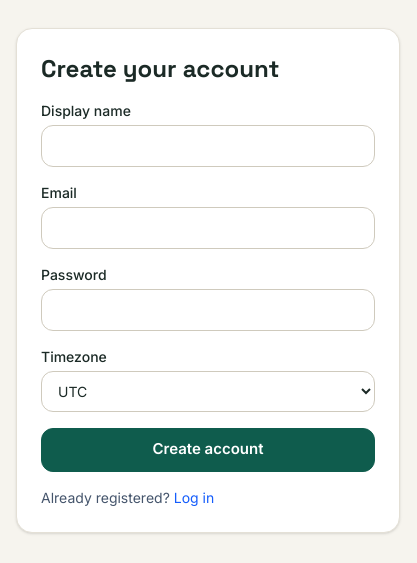
Scenario: authentication screens › shows field errors from the backend under the right input
Type "alex@example.com" into the field labelled "Email" at (208, 228), box [41,206,375,248]
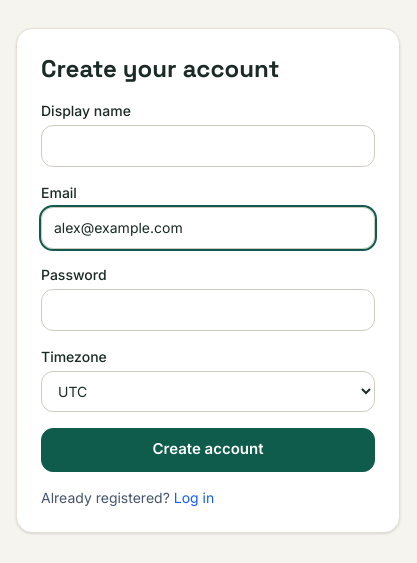
Type "password" into the password field labelled "Password" at (208, 310), box [41,288,375,330]
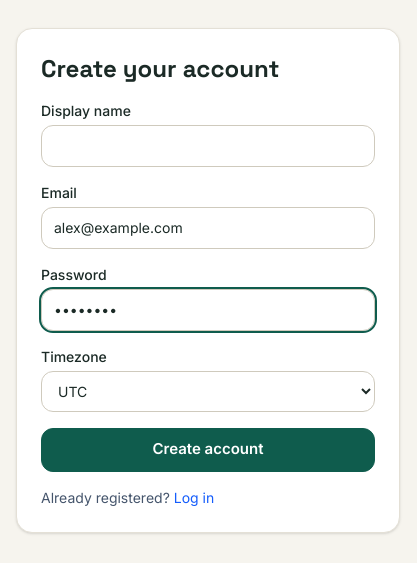
Click the button "Create account" at (208, 450), box [41,428,375,472]
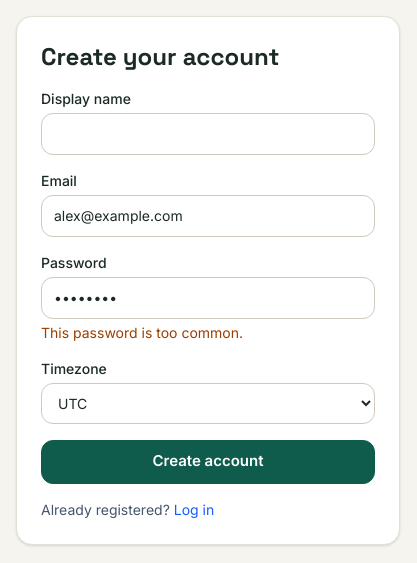
Now the text "This password is too common." is shown, box [41,324,243,340]
